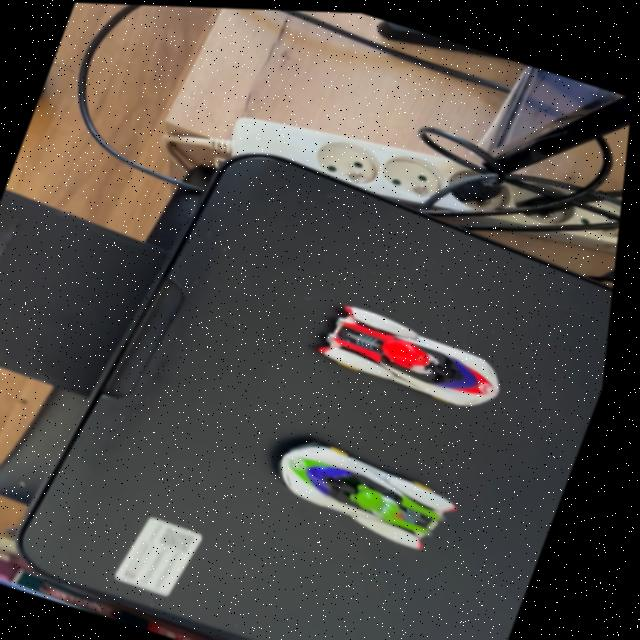mario: (298, 291, 533, 423)
yoshi: (258, 419, 496, 563)
